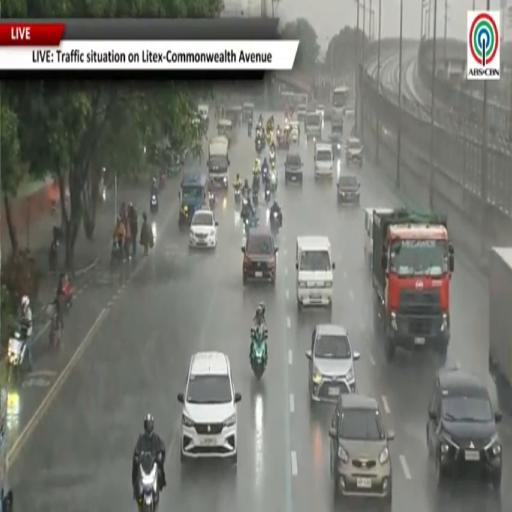bus: (331, 86, 349, 119)
car: (427, 367, 502, 489), (330, 394, 393, 511), (178, 351, 241, 462), (306, 325, 360, 403), (242, 227, 278, 285), (189, 210, 218, 248), (337, 174, 360, 204), (285, 152, 303, 184), (346, 137, 363, 166), (330, 121, 342, 157), (289, 121, 300, 143), (296, 104, 308, 122), (344, 103, 355, 118), (316, 104, 325, 119)
motorcycle: (138, 453, 159, 511), (8, 325, 29, 382), (251, 328, 267, 379), (47, 301, 61, 348), (110, 239, 124, 270), (49, 239, 59, 271), (245, 215, 258, 236), (270, 212, 281, 235), (150, 192, 158, 214), (252, 174, 260, 193), (270, 173, 277, 194), (255, 137, 264, 153), (234, 188, 241, 206), (209, 191, 215, 210), (264, 184, 270, 203), (262, 166, 269, 181), (266, 130, 273, 144), (253, 189, 258, 207), (270, 152, 275, 166), (248, 123, 252, 137)
truck: (372, 208, 454, 360), (489, 248, 511, 385), (0, 388, 13, 511), (208, 136, 229, 188)
